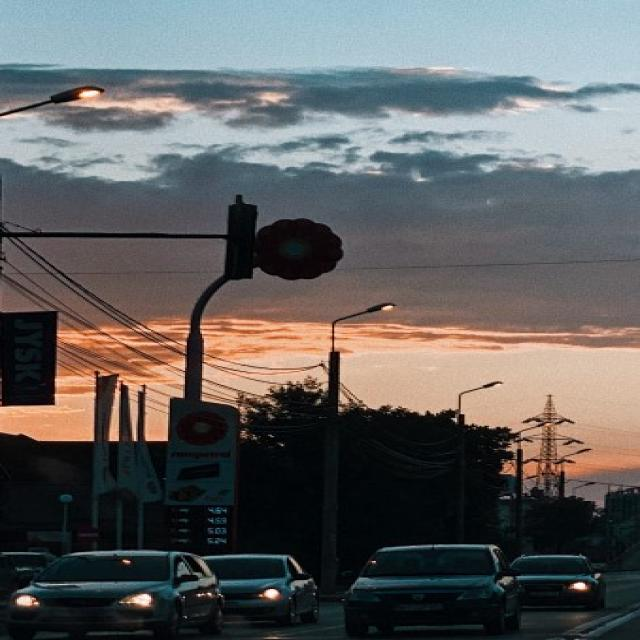car: (7, 548, 224, 640), (341, 542, 526, 634), (202, 553, 325, 627), (507, 552, 607, 613)
